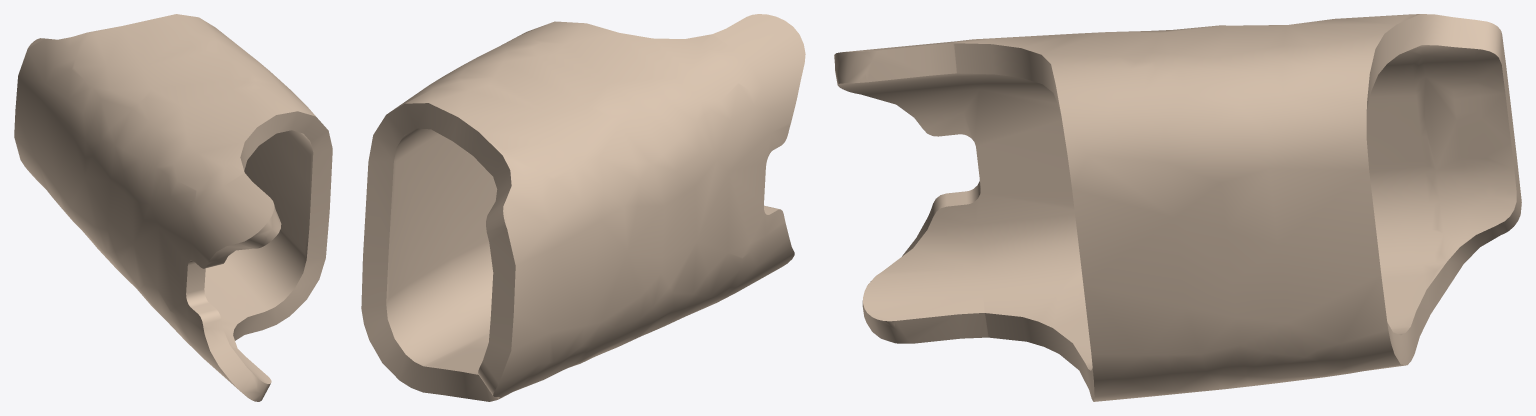
File: r_hand_P_R_1.obj
The picture shows the model from 3 angles, left to right: view 1: azimuth 30°, elevation 25°; view 2: azimuth 150°, elevation 25°; view 3: azimuth 270°, elevation 25°; orthographic projection. The views are drawn at different scales.
Bounding box in the file's own units: 19.66 × 24.88 × 44.18.
